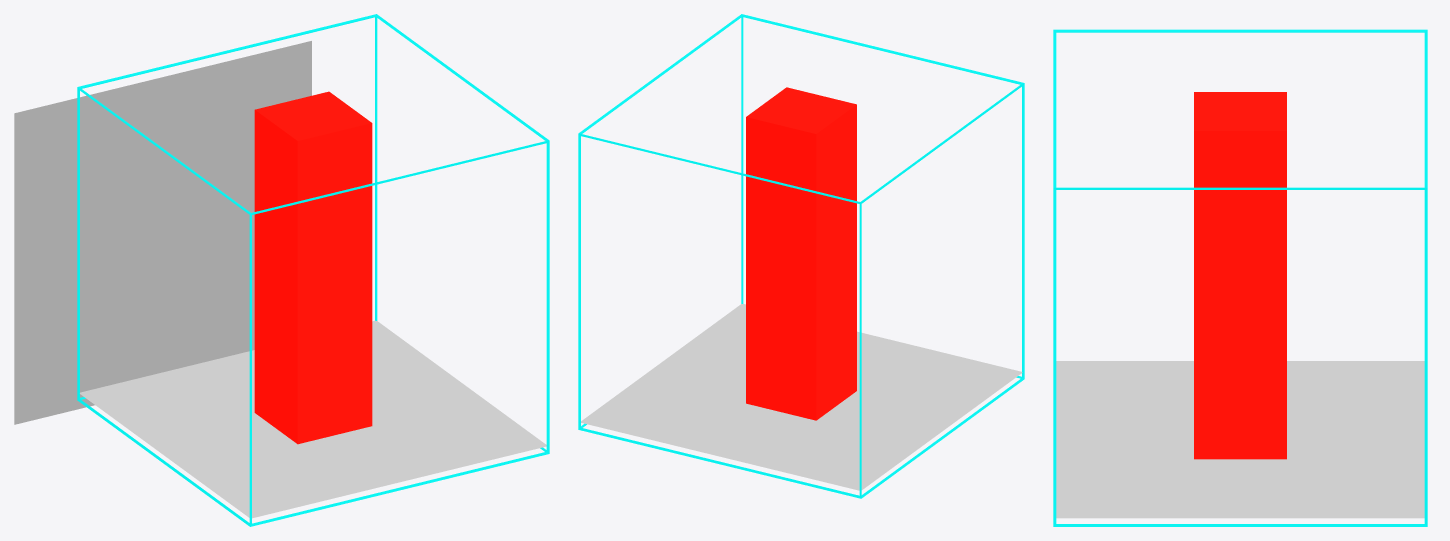
3 views of the same model, side by side, from view 1: azimuth 30°, elevation 25°; view 2: azimuth 150°, elevation 25°; view 3: azimuth 270°, elevation 25° (orthographic). The views are drawn at different scales.
Parts seen in each view (by area): view 1: Plane.002, Cube, Plane.001, Cube.001; view 2: Plane.001, Cube, Cube.001; view 3: Plane.001, Cube, Cube.001.
Part boxes in pixels (x1=…): Plane.002: x1=14, y1=41, x2=311, y2=424; Cube: x1=254, y1=91, x2=372, y2=444; Plane.001: x1=80, y1=320, x2=546, y2=518; Cube.001: x1=77, y1=14, x2=549, y2=526; Plane.001: x1=581, y1=304, x2=1022, y2=490; Cube: x1=746, y1=87, x2=856, y2=420; Cube.001: x1=578, y1=14, x2=1024, y2=498; Plane.001: x1=1056, y1=361, x2=1424, y2=518; Cube: x1=1194, y1=92, x2=1286, y2=459; Cube.001: x1=1053, y1=29, x2=1427, y2=526.
Bounding box in the file's own units: 9.64 × 8.37 × 8.21.
